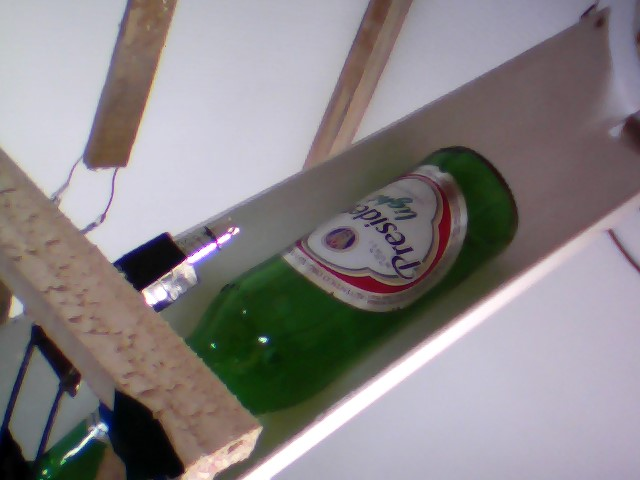vidrio: (178, 132, 521, 413)
